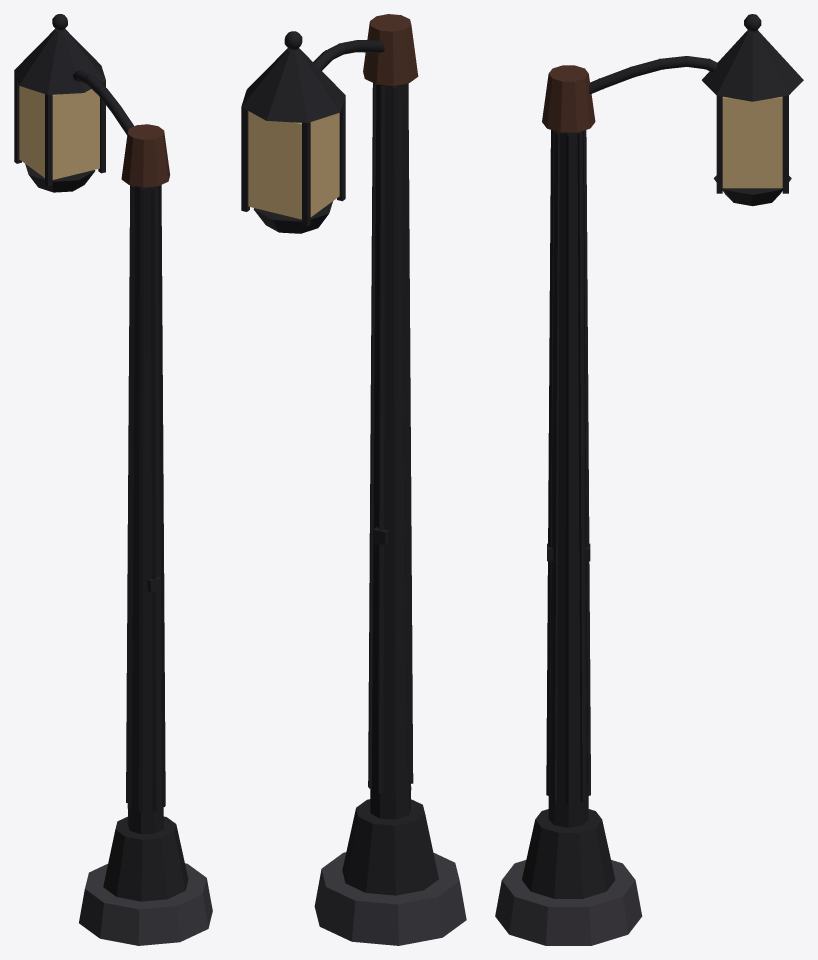
Rendered from SM_ENV_Poste.fbx.
3 views of the same model, side by side, from view 1: azimuth 30°, elevation 25°; view 2: azimuth 150°, elevation 25°; view 3: azimuth 270°, elevation 25° (orthographic). The views are drawn at different scales.
Parts seen in each view (by area): view 1: SM_ENV_Poste; view 2: SM_ENV_Poste; view 3: SM_ENV_Poste.
Part boxes in pixels (box(x1,y1,x2,y2)): SM_ENV_Poste: box(14, 14, 212, 945); SM_ENV_Poste: box(241, 14, 466, 945); SM_ENV_Poste: box(495, 14, 803, 945).
Size of the model in its own units: 0.4185 by 2.97 by 0.923.
